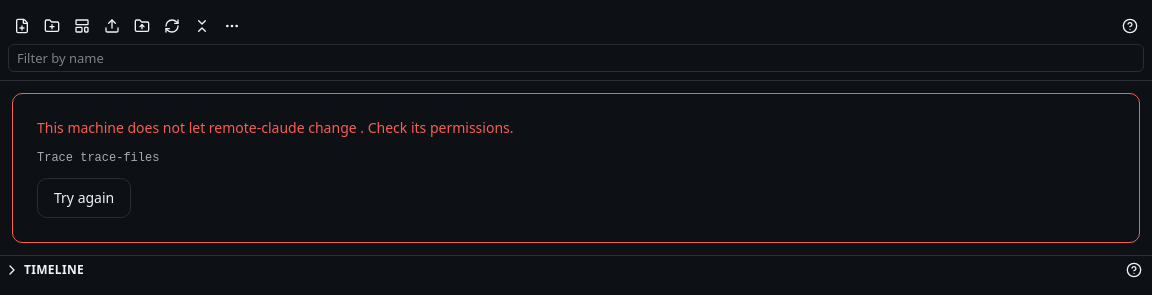
Test: the four states of the Explorer — S-157 › says the refusal translated, with its trace and a way to try again
Click the button "Try again" at (84, 198), box [37, 178, 131, 218]
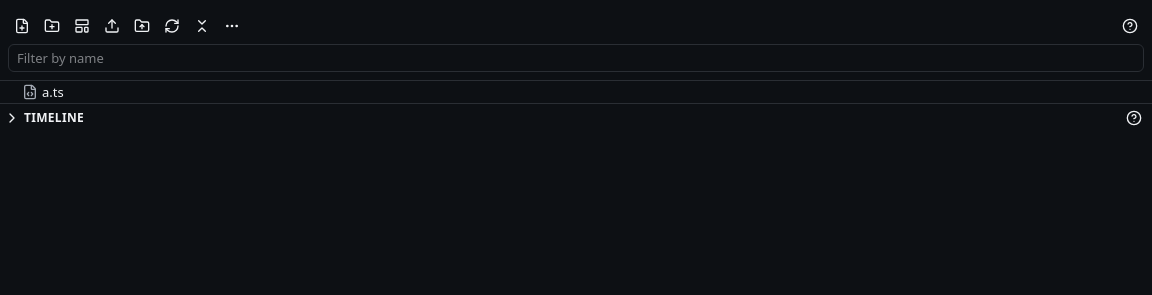
Expected: the list item "a.ts" is shown, [22, 83, 64, 101]
